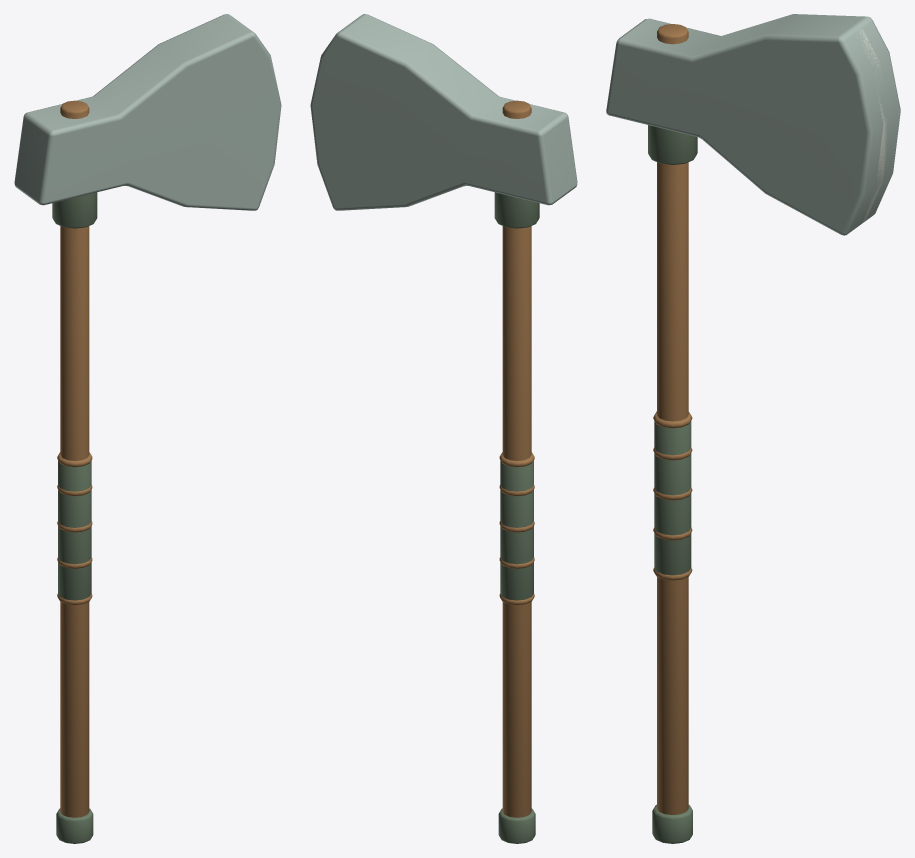
Rendered from authored_axe_v1.glb.
The picture shows the model from 3 angles, left to right: view 1: azimuth 30°, elevation 25°; view 2: azimuth 150°, elevation 25°; view 3: azimuth 330°, elevation 25°; orthographic projection. The views are drawn at different scales.
Visible parts, largest first — view 1: Curved axe head, Tapered wood handle, Grip leather, Head collar, Handle cap; view 2: Curved axe head, Tapered wood handle, Grip leather, Head collar, Handle cap; view 3: Curved axe head, Tapered wood handle, Grip leather, Head collar, Handle cap, Sharpened curved blade.
Part boxes in pixels (box(x1,y1,x2,y2)): Curved axe head: box(14, 14, 281, 210); Tapered wood handle: box(60, 100, 89, 817); Grip leather: box(58, 460, 91, 600); Head collar: box(52, 192, 97, 228); Handle cap: box(56, 808, 93, 843); Curved axe head: box(310, 14, 577, 210); Tapered wood handle: box(502, 100, 531, 817); Grip leather: box(500, 460, 533, 600); Head collar: box(494, 192, 539, 228); Handle cap: box(498, 808, 535, 843); Curved axe head: box(606, 14, 900, 235); Tapered wood handle: box(657, 24, 688, 814); Grip leather: box(654, 421, 691, 575); Head collar: box(648, 125, 697, 164); Handle cap: box(652, 804, 692, 843); Sharpened curved blade: box(856, 28, 887, 223).
Size of the model in its own units: 0.3491 by 1.07 by 0.072.
